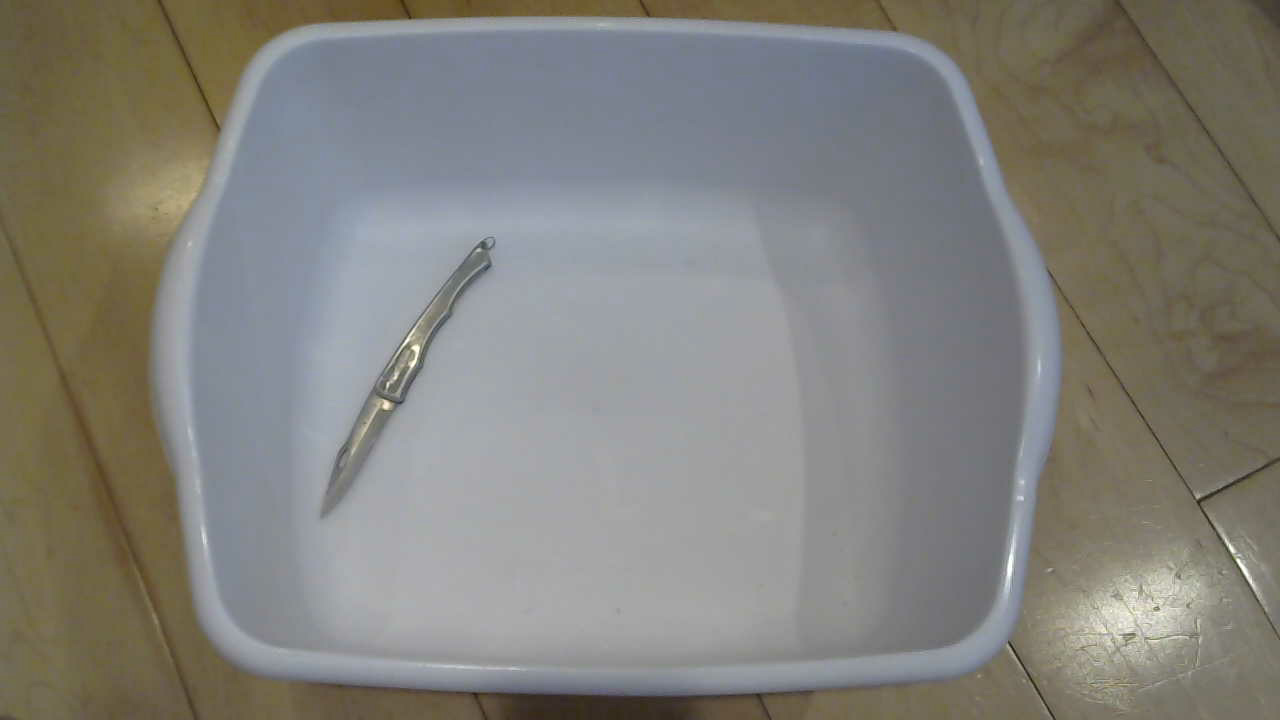knife: (309, 226, 502, 523)
